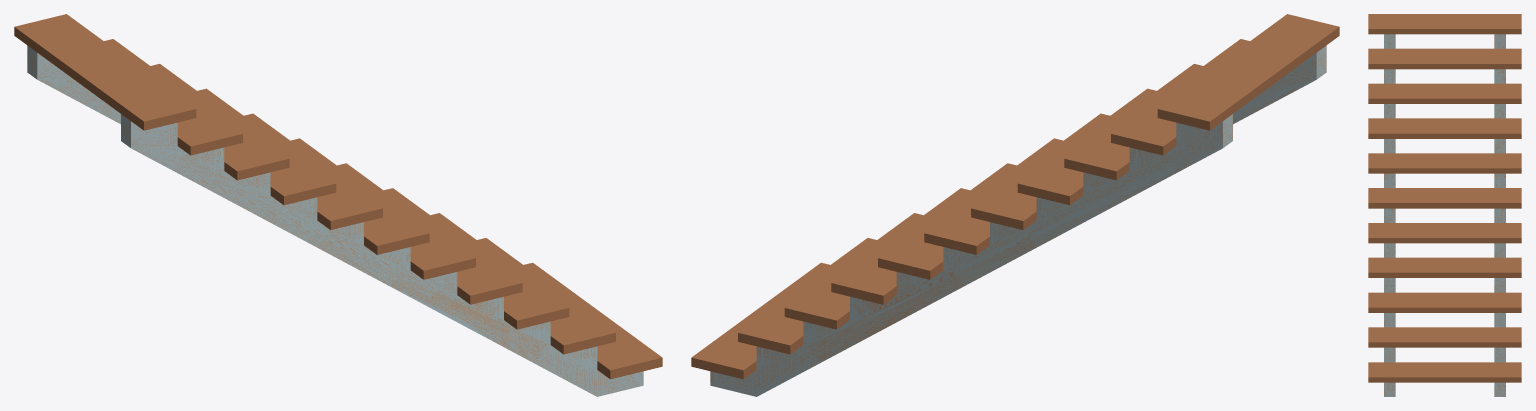
File: stairsOpen.obj
3 views of the same model, side by side, from view 1: azimuth 30°, elevation 25°; view 2: azimuth 150°, elevation 25°; view 3: azimuth 270°, elevation 25° (orthographic). The views are drawn at different scales.
Parts seen in each view (by area): view 1: stairsOpen, Group; view 2: stairsOpen, Group; view 3: stairsOpen, Group.
Boxes of the visible parts, <box> form: stairsOpen: <box>14,14,662,379</box>; Group: <box>27,45,643,396</box>; stairsOpen: <box>691,14,1339,379</box>; Group: <box>710,45,1326,396</box>; stairsOpen: <box>1368,14,1521,382</box>; Group: <box>1384,34,1505,396</box>.
Size of the model in its own units: 1.82 by 1.34 by 0.79.
